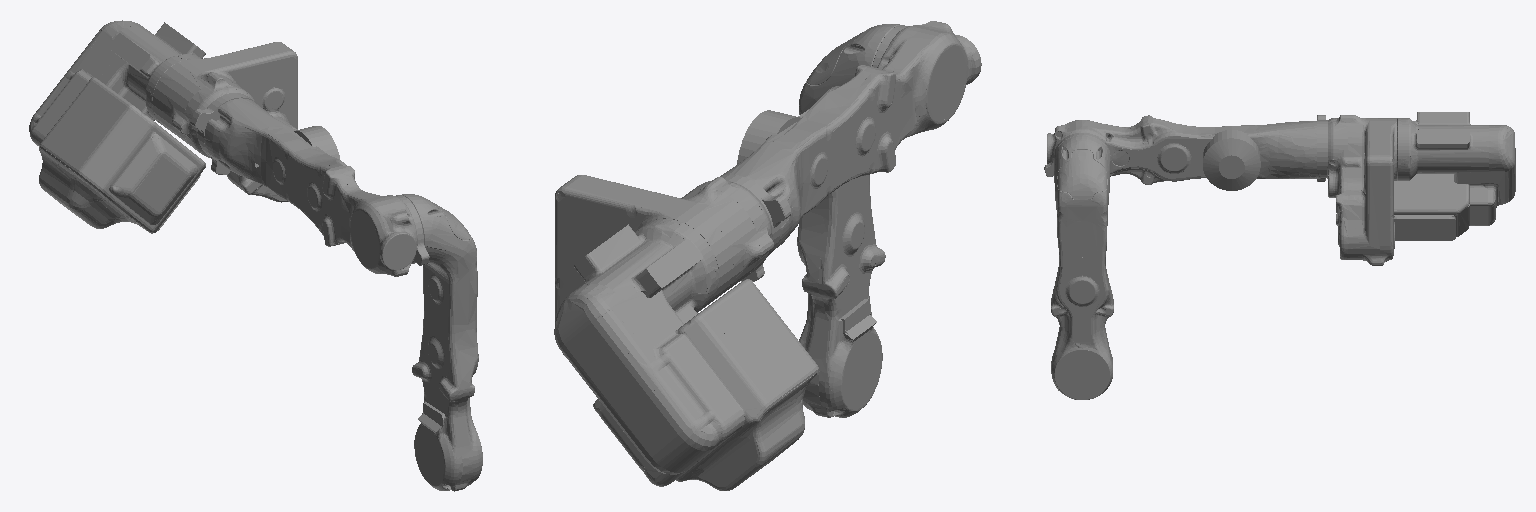
URDF robot description (finger):
<?xml version="1.0" ?>
<!-- =================================================================================== -->
<!-- |    This document was autogenerated by xacro from /local_data/sjoshi/camera_workspace/workspace/src/catkin/robots/robot_properties/robot_properties_manipulator/xacro/finger.urdf.xacro | -->
<!-- |    EDITING THIS FILE BY HAND IS NOT RECOMMENDED                                 | -->
<!-- =================================================================================== -->
<robot name="finger" xmlns:xacro="https://ei.is.tuebingen.mpg.de/xacro">
  <!--
    Frames are defined such that they all align with the base frame when all
    joints are at position zero.

    In zero-configuration the origins of all joints are in one line.

    In zero-configuration the origin of the base link is exactly above the
    finger tip which should make it easy to place the finger in the world.
    -->
  <!--
    Frames are defined such that they all align with the base frame when all
    joints are at position zero.

    In zero-configuration the origins of all joints are in one line.

    In zero-configuration the origin of the base link is exactly above the
    finger tip which should make it easy to place the finger in the world.
    -->
  <material name="finger_material">
    <color rgba="0.6 0.6 0.6 1.0"/>
  </material>
  <!--
        Fixed links for the finger base (parts where the upper link is mounted).
        -->
  <link name="finger_base_link">
    <visual>
      <origin rpy="0 0 0" xyz="0 0.179 0"/>
      <geometry>
        <mesh filename="package://robot_properties_manipulator/meshes/stl/SIM__BL-Finger_Base.stl" scale="1 1 1"/>
      </geometry>
      <material name="finger_material"/>
    </visual>
    <collision>
      <origin rpy="0 0 0" xyz="0 0.179 0"/>
      <geometry>
        <mesh filename="package://robot_properties_manipulator/meshes/stl/SIM__BL-Finger_Base.stl" scale="1 1 1"/>
      </geometry>
    </collision>
    <inertial>
      <origin rpy="0 0 0" xyz="0 0 0"/>
      <mass value="1"/>
      <inertia ixx="0.000416666666667" ixy="0" ixz="0" iyy="0.000416666666667" iyz="0" izz="0.000416666666667"/>
    </inertial>
  </link>
  <!-- base_holder is added in case of single finger -->
  <link name="finger_upper_holder_link">
    <visual>
      <origin rpy="0 0 0" xyz="0 0 0"/>
      <geometry>
        <mesh filename="package://robot_properties_manipulator/meshes/stl/BL_Finger_Holder_SIM.stl" scale="1 1 1"/>
      </geometry>
      <material name="finger_material"/>
    </visual>
    <collision>
      <origin rpy="0 0 0" xyz="0 0 0"/>
      <geometry>
        <mesh filename="package://robot_properties_manipulator/meshes/stl/BL_Finger_Holder_SIM.stl" scale="1 1 1"/>
      </geometry>
    </collision>
    <!--
                  for some reason this link needs to have some inertia defined,
                  otherwise the model won't show up in gazebo
                -->
    <inertial>
      <origin rpy="0 0 0" xyz="0 0 0"/>
      <mass value="0.5"/>
      <inertia ixx="0.000208333333333" ixy="0" ixz="0" iyy="0.000208333333333" iyz="0" izz="0.000208333333333"/>
    </inertial>
  </link>
  <joint name="finger_base_to_holder" type="fixed">
    <parent link="finger_base_link"/>
    <child link="finger_upper_holder_link"/>
    <origin rpy="0 0 0" xyz="0 -0.02695 0"/>
  </joint>
  <!-- The movable links (upper, middle and lower) of the finger. -->
  <!-- TODO inertia parameters don't look correct, they cant be same for upper and middle! -->
  <link name="finger_upper_link">
    <visual>
      <origin rpy="0 0 0" xyz="0 -0.02695 0"/>
      <geometry>
        <mesh filename="package://robot_properties_manipulator/meshes/stl/SIM__BL-Finger_Proximal.stl" scale="1 1 1"/>
      </geometry>
      <material name="finger_material"/>
    </visual>
    <collision>
      <origin rpy="0 0 0" xyz="0 -0.02695 0"/>
      <geometry>
        <mesh filename="package://robot_properties_manipulator/meshes/stl/SIM__BL-Finger_Proximal.stl" scale="1 1 1"/>
      </geometry>
    </collision>
    <inertial>
      <origin rpy="0 0 0" xyz="0 0.06 0"/>
      <mass value="0.2"/>
      <inertia ixx="0.000353333333333" ixy="0" ixz="0" iyy="5.33333333333e-05" iyz="0" izz="0.000353333333333"/>
    </inertial>
  </link>
  <link name="finger_middle_link">
    <visual>
      <origin rpy="1.57079632679 0 0" xyz="0.014 0 0"/>
      <geometry>
        <mesh filename="package://robot_properties_manipulator/meshes/stl/SIM__BL-Finger_Intermediate.stl" scale="1 1 1"/>
      </geometry>
      <material name="finger_material"/>
    </visual>
    <collision>
      <origin rpy="1.57079632679 0 0" xyz="0.014 0 0"/>
      <geometry>
        <mesh filename="package://robot_properties_manipulator/meshes/stl/SIM__BL-Finger_Intermediate.stl" scale="1 1 1"/>
      </geometry>
    </collision>
    <inertial>
      <origin rpy="0 0 0" xyz="0.028 0 -0.08"/>
      <mass value="0.2"/>
      <inertia ixx="0.000353333333333" ixy="0" ixz="0" iyy="0.000353333333333" iyz="0" izz="5.33333333333e-05"/>
    </inertial>
  </link>
  <link name="finger_lower_link">
    <visual>
      <origin rpy="1.57079632679 0 0" xyz="0.014 0 0"/>
      <geometry>
        <mesh filename="package://robot_properties_manipulator/meshes/stl/SIM_BL_FINGER_TIP_LINK.stl" scale="1 1 1"/>
      </geometry>
      <material name="finger_material"/>
    </visual>
    <collision>
      <origin rpy="1.57079632679 0 0" xyz="0.014 0 0"/>
      <geometry>
        <mesh filename="package://robot_properties_manipulator/meshes/stl/SIM_BL_FINGER_TIP_LINK.stl" scale="1 1 1"/>
      </geometry>
    </collision>
    <visual>
      <origin rpy="0 0 0" xyz="0 0 -0.16"/>
      <geometry>
        <mesh filename="package://robot_properties_manipulator/meshes/stl/finger_padding.stl" scale="1 1 1"/>
      </geometry>
      <material name="finger_material"/>
    </visual>
    <collision>
      <origin rpy="0 0 0" xyz="0 0 -0.16"/>
      <geometry>
        <mesh filename="package://robot_properties_manipulator/meshes/stl/finger_padding.stl" scale="1 1 1"/>
      </geometry>
    </collision>
    <inertial>
      <origin rpy="0 0 0" xyz="0 0 -0.06"/>
      <mass value="0.01"/>
      <inertia ixx="1.66666666667e-05" ixy="0" ixz="0" iyy="1.66666666667e-05" iyz="0" izz="6.66666666667e-07"/>
    </inertial>
  </link>
  <!-- fixed link for finger tip -->
  <link name="finger_tip_link">
    <inertial>
      <origin rpy="0 0 0" xyz="0 0 0"/>
      <mass value="0.002"/>
      <inertia ixx="3.33333333333e-08" ixy="0" ixz="0" iyy="3.33333333333e-08" iyz="0" izz="3.33333333333e-08"/>
    </inertial>
  </link>
  <joint name="finger_lower_to_tip_joint" type="fixed">
    <parent link="finger_lower_link"/>
    <child link="finger_tip_link"/>
    <origin xyz="0 0 -0.16"/>
  </joint>
  <!-- kinematics -->
  <!-- TODO: joint limits are based on values from wiki
        (https://atlas.is.localnet/confluence/display/AMDW/Forward+Kinematics) but
        should be verified on the real system (especially the finger tip limits look
        a bit too big when visualizing the model. -->
  <joint name="finger_base_to_upper_joint" type="revolute">
    <parent link="finger_base_link"/>
    <child link="finger_upper_link"/>
    <limit effort="1000" lower="-1.57079632679" upper="1.57079632679" velocity="1000"/>
    <axis xyz="0 1 0"/>
    <origin rpy="0 0 0" xyz="0 0 0"/>
  </joint>
  <joint name="finger_upper_to_middle_joint" type="revolute">
    <parent link="finger_upper_link"/>
    <child link="finger_middle_link"/>
    <limit effort="1000" lower="-1.3526301703" upper="4.49422282389" velocity="1000"/>
    <axis xyz="-1 0 0"/>
    <origin rpy="0 0 0" xyz="0 0 0"/>
  </joint>
  <joint name="finger_middle_to_lower_joint" type="revolute">
    <parent link="finger_middle_link"/>
    <child link="finger_lower_link"/>
    <!-- <limit effort="1000" lower="${radians(-172)}" upper="${radians(172)}" velocity="1000"/> -->
    <limit effort="1000" lower="-3.00196631343" upper="-0.0349065850399" velocity="1000"/>
    <axis xyz="1 0 0"/>
    <origin rpy="0 0 0" xyz="0 0 -0.16"/>
  </joint>
  <!--
    Define the global base link and place the finger relative to it.
    -->
  <link name="base_link">
    <inertial>
      <origin rpy="0 0 0" xyz="0 0 0"/>
      <mass value="1"/>
      <inertia ixx="4.16666666667e-06" ixy="0" ixz="0" iyy="4.16666666667e-06" iyz="0" izz="4.16666666667e-06"/>
    </inertial>
  </link>
  <joint name="base_to_finger" type="fixed">
    <parent link="base_link"/>
    <child link="finger_base_link"/>
    <origin xyz="0 0 0.34"/>
  </joint>
</robot>

--- What the picture shows (computed from the rendered views, not written in the file) ---
Views: 3 orthographic renders of the robot side by side, from view 1: azimuth 30°, elevation 25°; view 2: azimuth 150°, elevation 25°; view 3: azimuth 270°, elevation 25°.
Model finger with 7 links and 6 joints (3 revolute, 3 fixed), rooted at base_link, posed joints at zero except 1 at the middle of their limits (finger_middle_to_lower_joint = -1.52).
Visible links, largest first — view 1: finger_base_link, finger_upper_link, finger_middle_link; view 2: finger_base_link, finger_upper_link, finger_middle_link; view 3: finger_base_link, finger_middle_link, finger_upper_link.
Link boxes in pixels (bbox=[...]): finger_base_link: bbox=[29, 20, 297, 233]; finger_upper_link: bbox=[204, 98, 417, 276]; finger_middle_link: bbox=[396, 194, 482, 491]; finger_base_link: bbox=[554, 174, 818, 490]; finger_upper_link: bbox=[721, 21, 981, 256]; finger_middle_link: bbox=[797, 24, 913, 417]; finger_base_link: bbox=[1317, 112, 1515, 265]; finger_middle_link: bbox=[1044, 133, 1113, 399]; finger_upper_link: bbox=[1047, 115, 1320, 190].
Size in the robot's own frame: 0.1463 by 0.359 by 0.2128 metres.
Meshes: 6 distinct files referenced, 3 mesh visuals loaded (3 binary STL); not drawn: 3 (reference not matched to a file when rendering).
